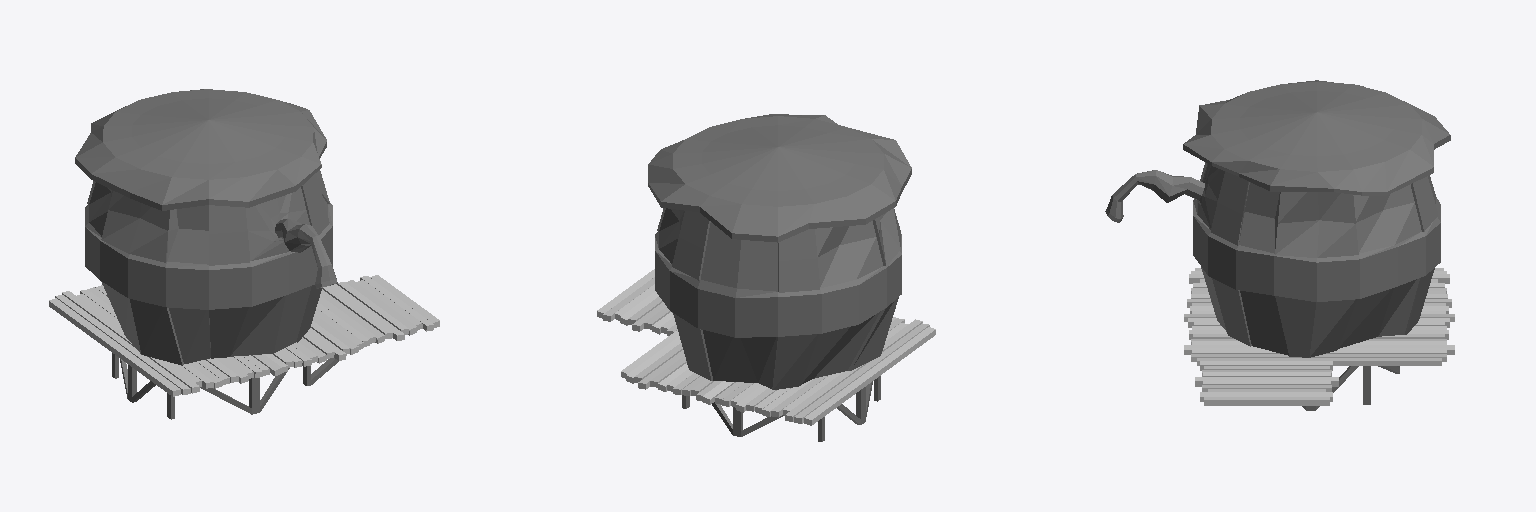
File: ghostWestern_tower_waterTower_d1.obj
3 views of the same model, side by side, from view 1: azimuth 30°, elevation 25°; view 2: azimuth 150°, elevation 25°; view 3: azimuth 270°, elevation 25° (orthographic).
Parts seen in each view (by area): view 1: waterTower_body, Default, waterTower_legs; view 2: waterTower_body, Default, waterTower_legs; view 3: waterTower_body, Default, waterTower_legs.
Part boxes in pixels (x1,y1,x2,y2): waterTower_body: (75,89,337,365); Default: (49,275,439,396); waterTower_legs: (112,353,338,419); waterTower_body: (648,114,911,389); Default: (597,269,935,425); waterTower_legs: (682,376,880,441); waterTower_body: (1105,80,1450,357); Default: (1184,268,1454,405); waterTower_legs: (1302,366,1399,410).
Size of the model in its own units: 5.29 by 4.47 by 5.46.